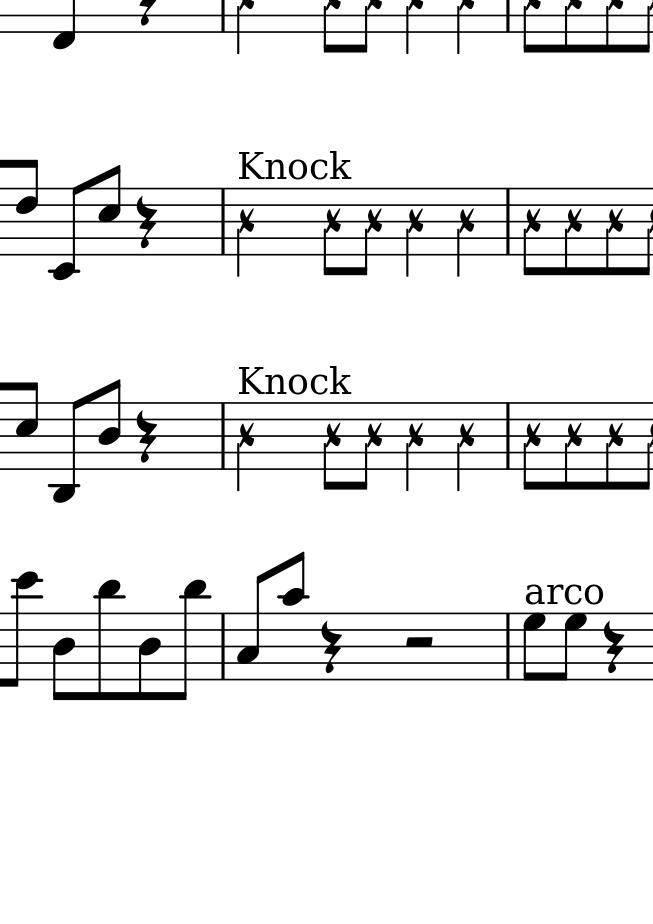8_-2: (49, 178, 89, 282)
8_-3: (50, 397, 86, 504)
8_10: (277, 551, 308, 684)
8_11: (164, 578, 208, 704), (94, 577, 124, 705)
8_12: (1, 568, 42, 689)
8_3: (234, 569, 268, 682)
8_4: (95, 378, 123, 470), (50, 610, 77, 704), (137, 611, 162, 705)
8_5: (97, 164, 124, 256), (15, 379, 39, 473)
8_6: (15, 158, 41, 259)
8_7: (555, 611, 589, 684), (521, 612, 545, 686)
Rests2: (401, 633, 438, 652)
Rests4: (601, 619, 626, 675), (319, 619, 342, 677), (135, 195, 158, 251), (136, 408, 157, 465)
Single_barline: (499, 402, 516, 471), (214, 189, 231, 254), (499, 613, 516, 678), (500, 189, 516, 255), (215, 403, 230, 468), (215, 614, 230, 676)
